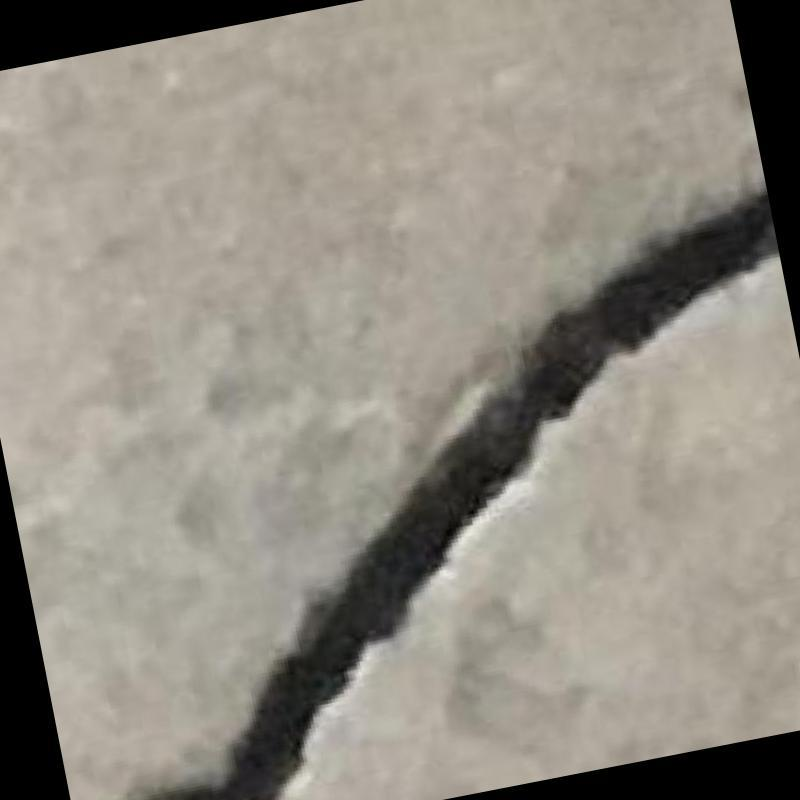pothole: (140, 185, 777, 800)
